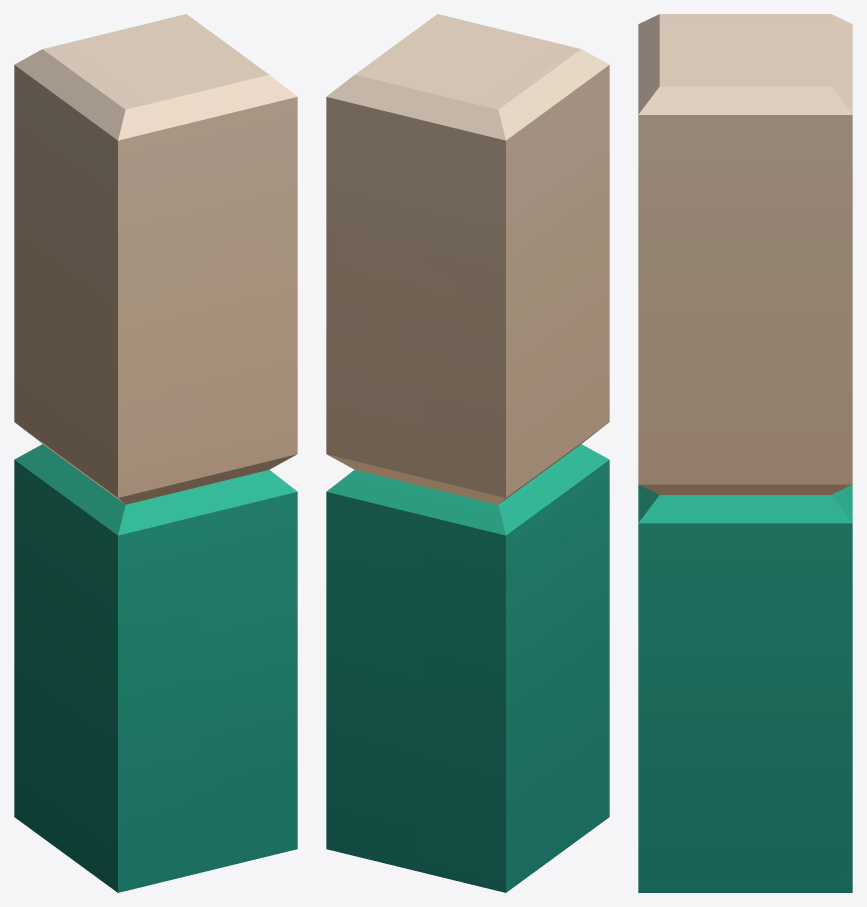
The model's file is kaykit-restaurant-bits-pillar-b.glb.
The picture shows the model from 3 angles, left to right: view 1: azimuth 30°, elevation 25°; view 2: azimuth 150°, elevation 25°; view 3: azimuth 270°, elevation 25°; orthographic projection. The views are drawn at different scales.
Visible parts, largest first — view 1: pillar_B; view 2: pillar_B; view 3: pillar_B.
Boxes of the visible parts, x1,y1,x2,y2 form: pillar_B: (14, 14, 297, 892); pillar_B: (326, 14, 609, 892); pillar_B: (638, 14, 852, 892).
Bounding box in the file's own units: 1 × 4.1 × 1.
1 material, 1 textured.
